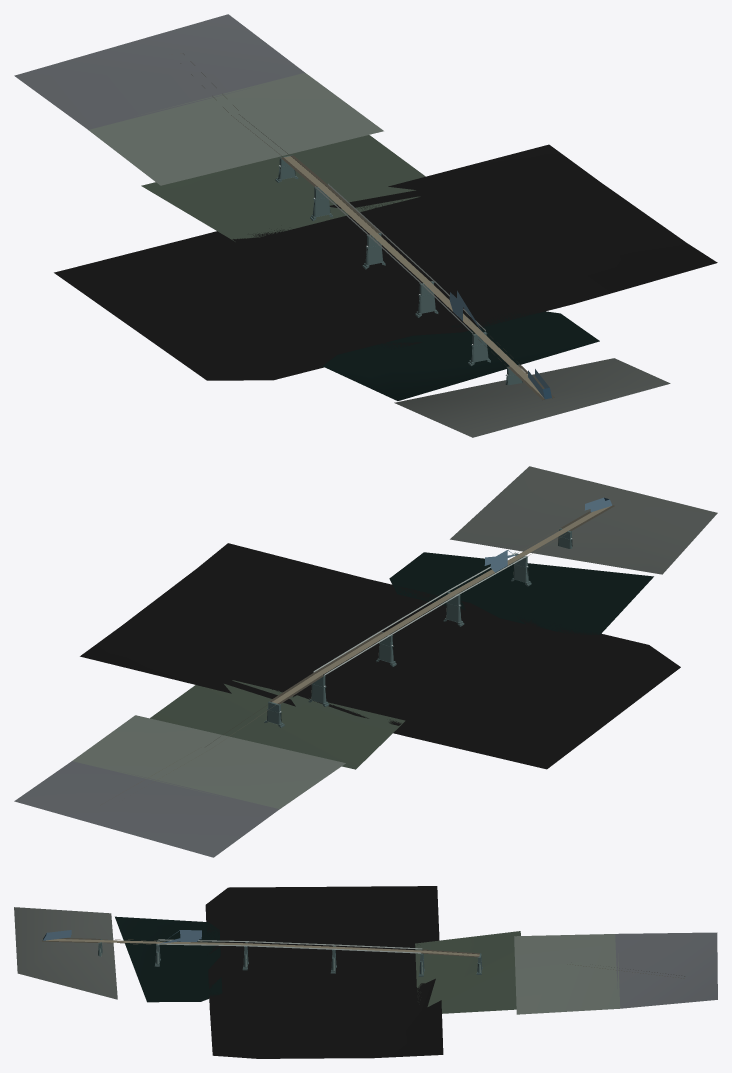
File: walnut-street-bridge.glb
3 views of the same model, one above another, from view 1: azimuth 30°, elevation 25°; view 2: azimuth 150°, elevation 25°; view 3: azimuth 270°, elevation 25° (orthographic). The views are drawn at different scales.
Parts seen in each view (by area): view 1: LOD0; view 2: LOD0; view 3: LOD0.
Boxes of the visible parts, x1,y1,x2,y2 form: LOD0: (14,14,717,437); LOD0: (14,466,717,857); LOD0: (14,886,717,1058).
Size of what is drawn, in the model's own units: 452 by 41.47 by 777.
3 materials, 3 textured.
